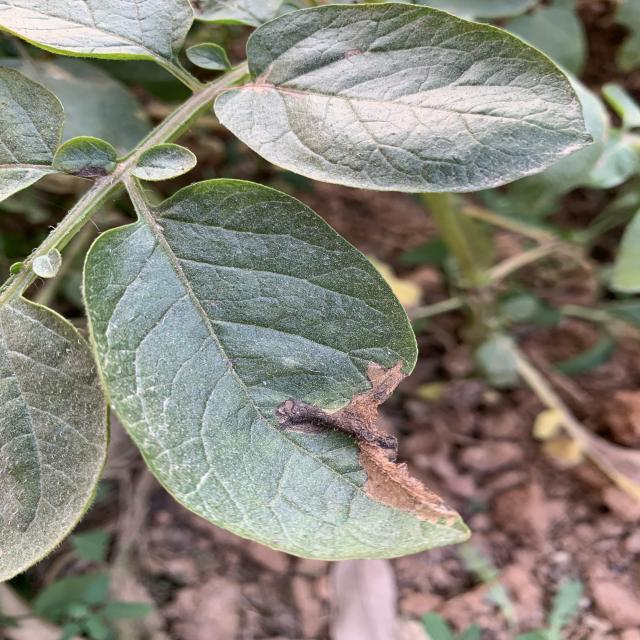lateblight: (275, 361, 457, 524)
